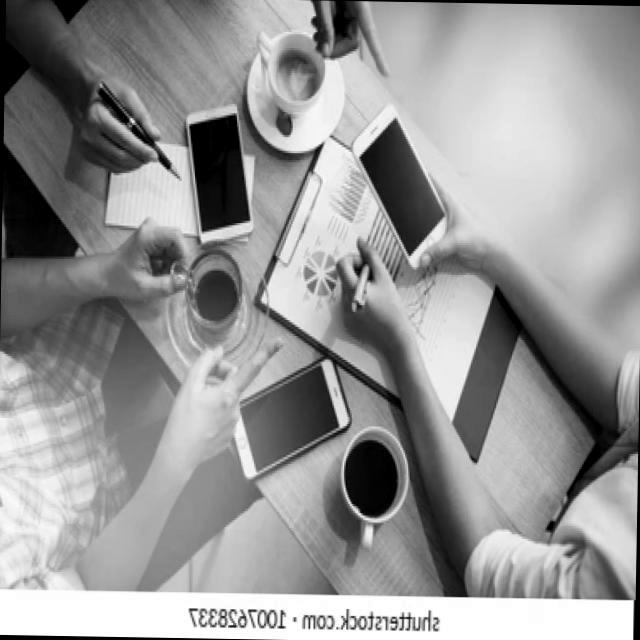phone: (350, 101, 450, 270), (232, 352, 354, 480), (184, 100, 256, 246)
